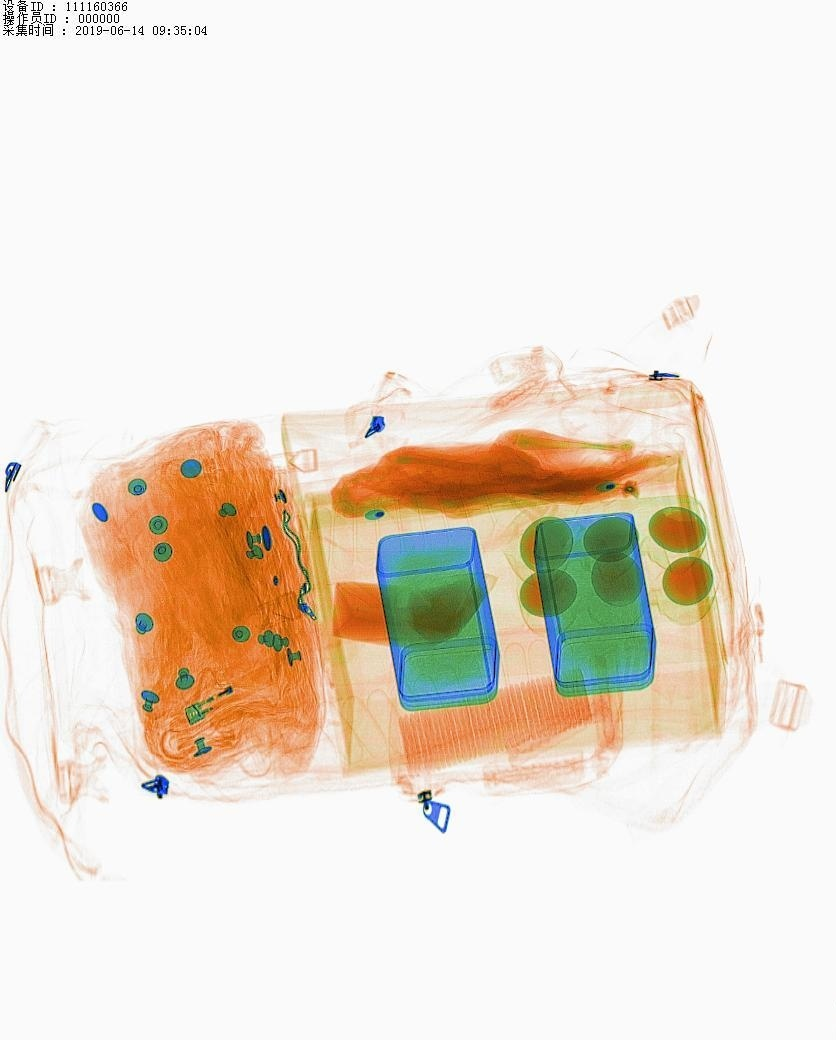NonmetallicFire: (162, 671, 263, 729)
